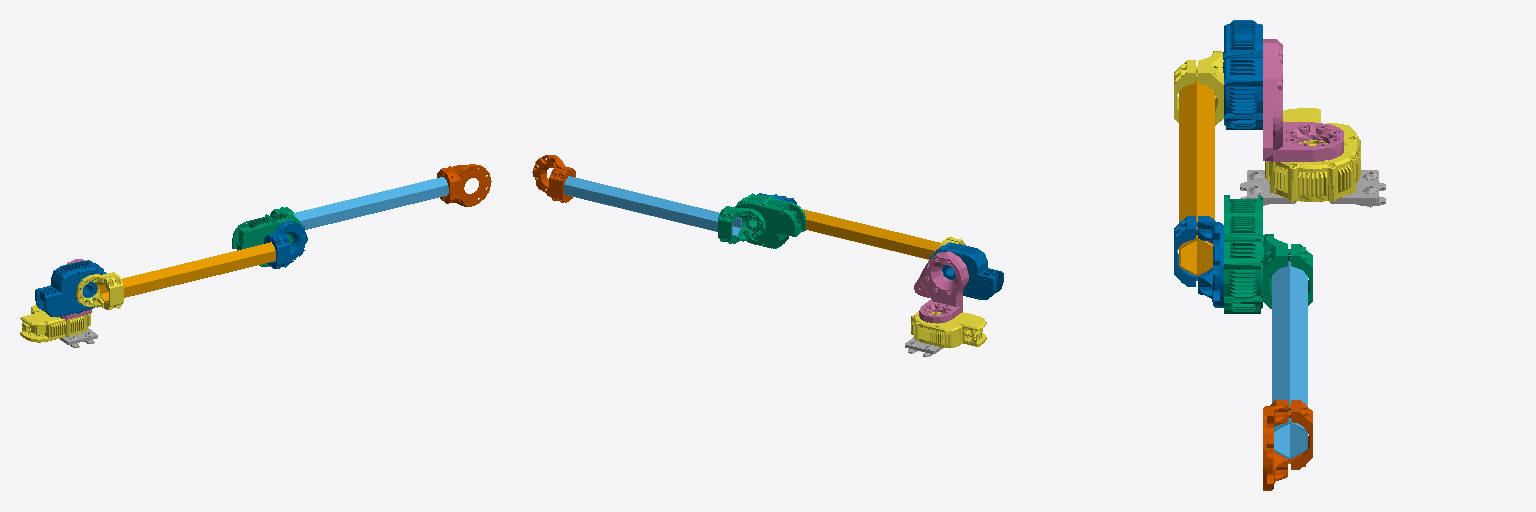
The robot description file, URDF, robot "HEBI_3_DOF_Arm_1":
<?xml version="1.0" ?>
<robot name="HEBI_3_DOF_Arm_1">
  <!--Joints-->
  <joint name="world_to_base_link" type="fixed">
    <parent link="world"/>
    <child link="base_link"/>
  </joint>
  <joint name="base_link_to_a_2043_01_5Z" type="fixed">
    <parent link="base_link"/>
    <child link="a_2043_01_5Z"/>
  </joint>
  <joint name="a_2043_01_5Z_to_hebi_x5_4_3Z" type="fixed">
    <parent link="a_2043_01_5Z"/>
    <child link="hebi_x5_4_3Z"/>
    <origin rpy="0.0 -5.08239990574e-17 -1.73333696049e-33" xyz="8.71763536758e-24 1.61232339957e-23 1e-23"/>
  </joint>
  <joint name="HEBI/Base/X5_4" type="revolute">
    <parent link="hebi_x5_4_3Z"/>
    <child link="a_2040_01r_1Z"/>
    <axis xyz="-2.77554010017e-17 -1.73472348e-16 1.0"/>
    <dynamics damping="0.5" friction="0.06"/>
    <limit effort="100" lower="-3.14" upper="+3.14" velocity="100"/>
    <origin rpy="0.0 3.34767643574e-17 7.733222874e-33" xyz="-5.55318730444e-17 -2.96636102637e-18 0.03"/>
  </joint>
  <gazebo reference="HEBI/Base/X5_4">
    <implicitSpringDamper>True</implicitSpringDamper>
  </gazebo>
  <joint name="a_2040_01r_1Z_to_hebi_x5_9_7Z" type="fixed">
    <parent link="a_2040_01r_1Z"/>
    <child link="hebi_x5_9_7Z"/>
    <origin rpy="1.57079632679 3.08148791102e-33 -5.08239990574e-17" xyz="4.80186749853e-17 -0.0375 0.055"/>
  </joint>
  <joint name="HEBI/Shoulder/X5_9" type="revolute">
    <parent link="hebi_x5_9_7Z"/>
    <child link="a_2038_02_8Z"/>
    <axis xyz="-2.77554010017e-17 -1.66533454e-16 1.0"/>
    <dynamics damping="0.5" friction="0.06"/>
    <limit effort="100" lower="-0.2" upper="+3.14" velocity="100"/>
    <origin rpy="0.0 -2.77555756e-17 0.0" xyz="-5.35847694878e-17 2.34257058104e-17 0.03"/>
  </joint>
  <gazebo reference="HEBI/Shoulder/X5_9">
    <implicitSpringDamper>True</implicitSpringDamper>
  </gazebo>
  <joint name="a_2038_02_8Z_to_tubepar_9Z" type="fixed">
    <parent link="a_2038_02_8Z"/>
    <child link="tubepar_9Z"/>
    <origin rpy="1.57079632679 -1.57079632679 0.0" xyz="0.0135 -9.540978845e-20 0.02"/>
  </joint>
  <joint name="tubepar_9Z_to_a_2039_02_10Z" type="fixed">
    <parent link="tubepar_9Z"/>
    <child link="a_2039_02_10Z"/>
    <origin rpy="1.57079632679 2.50240867501e-14 -1.57079632679" xyz="4.84783703319e-18 -0.3 5.20417041e-18"/>
  </joint>
  <joint name="a_2039_02_10Z_to_hebi_x5_4_6Z" type="fixed">
    <parent link="a_2039_02_10Z"/>
    <child link="hebi_x5_4_6Z"/>
    <origin rpy="1.22464679915e-16 1.04083409e-17 2.50240867501e-14" xyz="0.014 3.34058705353e-16 0.02"/>
  </joint>
  <joint name="HEBI/Elbow/X5_4" type="revolute">
    <parent link="hebi_x5_4_6Z"/>
    <child link="a_2038_02_2Z"/>
    <axis xyz="-8.89879155574e-17 -1.5959456e-16 1.0"/>
    <dynamics damping="0.5" friction="0.06"/>
    <limit effort="100" lower="-2.8" upper="+2.8" velocity="100"/>
    <origin rpy="0.0 -2.77555756e-17 -3.08148791102e-33" xyz="-5.95130563275e-17 -4.7878368e-18 0.03"/>
  </joint>
  <gazebo reference="HEBI/Elbow/X5_4">
    <implicitSpringDamper>True</implicitSpringDamper>
  </gazebo>
  <joint name="a_2038_02_2Z_to_tubepar_11Z" type="fixed">
    <parent link="a_2038_02_2Z"/>
    <child link="tubepar_11Z"/>
    <origin rpy="1.57079632679 -1.57079632679 0.0" xyz="0.0135 5.1174342845e-19 0.02"/>
  </joint>
  <joint name="tubepar_11Z_to_a_2039_02_4Z" type="fixed">
    <parent link="tubepar_11Z"/>
    <child link="a_2039_02_4Z"/>
    <origin rpy="1.57079632679 2.50240867501e-14 -1.57079632679" xyz="-2.94658008559e-18 -0.3 9.0066843052e-18"/>
  </joint>
  <!--Gazebo Plugins-->
  <gazebo>
    <plugin filename="libhebiros_gazebo_plugin.so" name="hebiros_gazebo_plugin"/>
  </gazebo>
  <!--Links-->
  <link name="world"/>
  <link name="base_link">
    <!--Transformation from CyPhy2CAD global reference frame to base_link-->
    <CyPhy2CAD>
      <CADAssembly_metrics>
        <RotationMatrix>
          <Row>
            <Column Value="1.0"/>
            <Column Value="0.0"/>
            <Column Value="0.0"/>
          </Row>
          <Row>
            <Column Value="0.0"/>
            <Column Value="1.0"/>
            <Column Value="0.0"/>
          </Row>
          <Row>
            <Column Value="0.0"/>
            <Column Value="0.0"/>
            <Column Value="1.0"/>
          </Row>
        </RotationMatrix>
        <Translation X="1e-20" Y="1e-20" Z="1e-20"/>
      </CADAssembly_metrics>
    </CyPhy2CAD>
  </link>
  <link name="a_2038_02_2Z">
    <visual>
      <origin rpy="0 0 0" xyz="5.68434188608e-17 9.86076128129e-34 3.48065554802e-33"/>
      <geometry>
        <mesh filename="package://openmeta_generated_urdf_package/meshes/a_2038_02_2z_prt.stl" scale="0.001 0.001 0.001"/>
      </geometry>
    </visual>
    <collision>
      <origin rpy="0 0 0" xyz="5.68434188608e-17 9.86076128129e-34 3.48065554802e-33"/>
      <geometry>
        <mesh filename="package://openmeta_generated_urdf_package/meshes/a_2038_02_2z_prt.stl" scale="0.001 0.001 0.001"/>
      </geometry>
    </collision>
    <inertial>
      <origin rpy="0 0 0" xyz="0.0176052907699 9.86076128129e-34 0.0142788404199"/>
      <mass value="0.059108249978877175"/>
      <inertia ixx="2.3632587043e-05" ixy="0.0" ixz="-3.93131579939e-06" iyy="2.03298829586e-05" iyz="0.0" izz="2.72912531732e-05"/>
    </inertial>
  </link>
  <gazebo reference="a_2038_02_2Z">
    <selfCollide>True</selfCollide>
    <material>Gazebo/Black</material>
    <mu1>0.1</mu1>
    <mu2>0.1</mu2>
    <kp>100000</kp>
    <kd>1</kd>
    <minDepth>0.001</minDepth>
    <maxVel>100</maxVel>
  </gazebo>
  <link name="a_2038_02_8Z">
    <visual>
      <origin rpy="0 0 0" xyz="5.68994337913e-17 -9.87047832275e-34 -4.47113330557e-33"/>
      <geometry>
        <mesh filename="package://openmeta_generated_urdf_package/meshes/a_2038_02_8z_prt.stl" scale="0.001 0.001 0.001"/>
      </geometry>
    </visual>
    <collision>
      <origin rpy="0 0 0" xyz="5.68994337913e-17 -9.87047832275e-34 -4.47113330557e-33"/>
      <geometry>
        <mesh filename="package://openmeta_generated_urdf_package/meshes/a_2038_02_8z_prt.stl" scale="0.001 0.001 0.001"/>
      </geometry>
    </collision>
    <inertial>
      <origin rpy="0 0 0" xyz="0.0176052907699 -9.87047832275e-34 0.0142788404199"/>
      <mass value="0.059108249978877175"/>
      <inertia ixx="2.3632587043e-05" ixy="0.0" ixz="-3.93131579939e-06" iyy="2.03298829586e-05" iyz="0.0" izz="2.72912531732e-05"/>
    </inertial>
  </link>
  <gazebo reference="a_2038_02_8Z">
    <selfCollide>True</selfCollide>
    <material>Gazebo/Black</material>
    <mu1>0.1</mu1>
    <mu2>0.1</mu2>
    <kp>100000</kp>
    <kd>1</kd>
    <minDepth>0.001</minDepth>
    <maxVel>100</maxVel>
  </gazebo>
  <link name="a_2039_02_10Z">
    <visual>
      <origin rpy="0 0 0" xyz="0.014 3.48269560069e-16 0.02"/>
      <geometry>
        <mesh filename="package://openmeta_generated_urdf_package/meshes/a_2039_02_10z_prt.stl" scale="0.001 0.001 0.001"/>
      </geometry>
    </visual>
    <collision>
      <origin rpy="0 0 0" xyz="0.014 3.48269560069e-16 0.02"/>
      <geometry>
        <mesh filename="package://openmeta_generated_urdf_package/meshes/a_2039_02_10z_prt.stl" scale="0.001 0.001 0.001"/>
      </geometry>
    </collision>
    <inertial>
      <origin rpy="0 0 0" xyz="0.00256411047128 3.48269560069e-16 0.00833404763152"/>
      <mass value="0.08075605008850124"/>
      <inertia ixx="3.54766366127e-05" ixy="0.0" ixz="-8.29679742245e-06" iyy="3.7139980371e-05" iyz="0.0" izz="5.23238184568e-05"/>
    </inertial>
  </link>
  <gazebo reference="a_2039_02_10Z">
    <selfCollide>True</selfCollide>
    <material>Gazebo/Black</material>
    <mu1>0.1</mu1>
    <mu2>0.1</mu2>
    <kp>100000</kp>
    <kd>1</kd>
    <minDepth>0.001</minDepth>
    <maxVel>100</maxVel>
  </gazebo>
  <link name="a_2039_02_4Z">
    <visual>
      <origin rpy="0 0 0" xyz="0.014 3.47783837497e-16 0.02"/>
      <geometry>
        <mesh filename="package://openmeta_generated_urdf_package/meshes/a_2039_02_4z_prt.stl" scale="0.001 0.001 0.001"/>
      </geometry>
    </visual>
    <collision>
      <origin rpy="0 0 0" xyz="0.014 3.47783837497e-16 0.02"/>
      <geometry>
        <mesh filename="package://openmeta_generated_urdf_package/meshes/a_2039_02_4z_prt.stl" scale="0.001 0.001 0.001"/>
      </geometry>
    </collision>
    <inertial>
      <origin rpy="0 0 0" xyz="0.00256411047128 3.47783837497e-16 0.00833404763152"/>
      <mass value="0.08075605008850124"/>
      <inertia ixx="3.54766366127e-05" ixy="0.0" ixz="-8.29679742245e-06" iyy="3.7139980371e-05" iyz="0.0" izz="5.23238184568e-05"/>
    </inertial>
  </link>
  <gazebo reference="a_2039_02_4Z">
    <selfCollide>True</selfCollide>
    <material>Gazebo/Black</material>
    <mu1>0.1</mu1>
    <mu2>0.1</mu2>
    <kp>100000</kp>
    <kd>1</kd>
    <minDepth>0.001</minDepth>
    <maxVel>100</maxVel>
  </gazebo>
  <link name="a_2040_01r_1Z">
    <visual>
      <origin rpy="0 0 0" xyz="-0.00144337567 -0.0366111248 -0.0110127649"/>
      <geometry>
        <mesh filename="package://openmeta_generated_urdf_package/meshes/a_2040_01r_1z_prt.stl" scale="0.001 0.001 0.001"/>
      </geometry>
    </visual>
    <collision>
      <origin rpy="0 0 0" xyz="-0.00144337567 -0.0366111248 -0.0110127649"/>
      <geometry>
        <mesh filename="package://openmeta_generated_urdf_package/meshes/a_2040_01r_1z_prt.stl" scale="0.001 0.001 0.001"/>
      </geometry>
    </collision>
    <inertial>
      <origin rpy="0 0 0" xyz="0.00491688893766 -0.0251584176519 0.0321388430548"/>
      <mass value="0.20914931631287276"/>
      <inertia ixx="0.000172164331359" ixy="6.97960030475e-06" ixz="1.86510590224e-06" iyy="0.000214507296155" iyz="3.45432088412e-05" izz="0.00012102414398"/>
    </inertial>
  </link>
  <gazebo reference="a_2040_01r_1Z">
    <selfCollide>True</selfCollide>
    <material>Gazebo/Black</material>
    <mu1>0.1</mu1>
    <mu2>0.1</mu2>
    <kp>100000</kp>
    <kd>1</kd>
    <minDepth>0.001</minDepth>
    <maxVel>100</maxVel>
  </gazebo>
  <link name="a_2043_01_5Z">
    <visual>
      <origin rpy="0 0 0" xyz="1e-23 1e-23 1e-23"/>
      <geometry>
        <mesh filename="package://openmeta_generated_urdf_package/meshes/a_2043_01_5z_prt.stl" scale="0.001 0.001 0.001"/>
      </geometry>
    </visual>
    <collision>
      <origin rpy="0 0 0" xyz="1e-23 1e-23 1e-23"/>
      <geometry>
        <mesh filename="package://openmeta_generated_urdf_package/meshes/a_2043_01_5z_prt.stl" scale="0.001 0.001 0.001"/>
      </geometry>
    </collision>
    <inertial>
      <origin rpy="0 0 0" xyz="-0.00139419949295 1e-23 -0.00293190489101"/>
      <mass value="0.06272938391183215"/>
      <inertia ixx="7.22571415296e-05" ixy="2.96268938113e-10" ixz="5.68510520871e-08" iyy="1.34631068457e-05" iyz="0.0" izz="8.48613385518e-05"/>
    </inertial>
  </link>
  <gazebo reference="a_2043_01_5Z">
    <selfCollide>True</selfCollide>
    <material>Gazebo/Black</material>
    <mu1>0.1</mu1>
    <mu2>0.1</mu2>
    <kp>100000</kp>
    <kd>1</kd>
    <minDepth>0.001</minDepth>
    <maxVel>100</maxVel>
  </gazebo>
  <link name="tubepar_9Z">
    <visual>
      <origin rpy="0 0 0" xyz="4.84783703319e-18 -0.3 5.20417041e-18"/>
      <geometry>
        <mesh filename="package://openmeta_generated_urdf_package/meshes/tubepar_9z_prt.stl" scale="0.001 0.001 0.001"/>
      </geometry>
    </visual>
    <collision>
      <origin rpy="0 0 0" xyz="4.84783703319e-18 -0.3 5.20417041e-18"/>
      <geometry>
        <mesh filename="package://openmeta_generated_urdf_package/meshes/tubepar_9z_prt.stl" scale="0.001 0.001 0.001"/>
      </geometry>
    </collision>
    <inertial>
      <origin rpy="0 0 0" xyz="4.84783703319e-18 -0.15 5.20417041e-18"/>
      <mass value="0.12133427279164029"/>
      <inertia ixx="0.000923727684155" ixy="0.0" ixz="0.0" iyy="2.74413054377e-05" iyz="0.0" izz="0.000923727713157"/>
    </inertial>
  </link>
  <gazebo reference="tubepar_9Z">
    <selfCollide>True</selfCollide>
    <material>Gazebo/Grey</material>
    <mu1>0.05</mu1>
    <mu2>0.05</mu2>
    <kp>100000</kp>
    <kd>1</kd>
    <minDepth>0.001</minDepth>
    <maxVel>100</maxVel>
  </gazebo>
  <link name="tubepar_11Z">
    <visual>
      <origin rpy="0 0 0" xyz="-2.94658008559e-18 -0.3 9.0066843052e-18"/>
      <geometry>
        <mesh filename="package://openmeta_generated_urdf_package/meshes/tubepar_11z_prt.stl" scale="0.001 0.001 0.001"/>
      </geometry>
    </visual>
    <collision>
      <origin rpy="0 0 0" xyz="-2.94658008559e-18 -0.3 9.0066843052e-18"/>
      <geometry>
        <mesh filename="package://openmeta_generated_urdf_package/meshes/tubepar_11z_prt.stl" scale="0.001 0.001 0.001"/>
      </geometry>
    </collision>
    <inertial>
      <origin rpy="0 0 0" xyz="-2.94658008559e-18 -0.15 9.0066843052e-18"/>
      <mass value="0.12133427279164029"/>
      <inertia ixx="0.000923727684155" ixy="0.0" ixz="0.0" iyy="2.74413054377e-05" iyz="0.0" izz="0.000923727713157"/>
    </inertial>
  </link>
  <gazebo reference="tubepar_11Z">
    <selfCollide>True</selfCollide>
    <material>Gazebo/Grey</material>
    <mu1>0.05</mu1>
    <mu2>0.05</mu2>
    <kp>100000</kp>
    <kd>1</kd>
    <minDepth>0.001</minDepth>
    <maxVel>100</maxVel>
  </gazebo>
  <link name="hebi_x5_4_6Z">
    <visual>
      <origin rpy="0 0 0" xyz="-5.81782375942e-17 -2.3939184e-18 0.015"/>
      <geometry>
        <mesh filename="package://openmeta_generated_urdf_package/meshes/hebi_x5_4_6z_prt.stl" scale="0.001 0.001 0.001"/>
      </geometry>
    </visual>
    <collision>
      <origin rpy="0 0 0" xyz="-5.81782375942e-17 -2.3939184e-18 0.015"/>
      <geometry>
        <mesh filename="package://openmeta_generated_urdf_package/meshes/hebi_x5_4_6z_prt.stl" scale="0.001 0.001 0.001"/>
      </geometry>
    </collision>
    <inertial>
      <origin rpy="0 0 0" xyz="-0.0142019322139 -0.00151173442654 0.0150064707722"/>
      <mass value="0.33507040082811385"/>
      <inertia ixx="0.000139243898497" ixy="-1.88809652748e-05" ixz="1.26840661154e-08" iyy="0.000241540500785" iyz="1.28229789324e-07" izz="0.000330481488128"/>
    </inertial>
  </link>
  <gazebo reference="hebi_x5_4_6Z">
    <selfCollide>True</selfCollide>
    <material>Gazebo/Red</material>
    <mu1>0.1</mu1>
    <mu2>0.1</mu2>
    <kp>100000</kp>
    <kd>1</kd>
    <minDepth>0.001</minDepth>
    <maxVel>100</maxVel>
    <sensor name="HEBI/Elbow/imu_sensor" type="imu">
      <always_on>true</always_on>
      <update_rate>100</update_rate>
      <visualize>true</visualize>
      <plugin filename="libgazebo_ros_imu_sensor.so" name="imu_plugin">
        <topicName>/hebiros_gazebo_plugin/imu/HEBI/Elbow</topicName>
        <bodyName>HEBI/Elbow/imu_link</bodyName>
        <updateRateHZ>10.0</updateRateHZ>
        <gaussianNoise>0.0</gaussianNoise>
        <xyzOffset>0.025 0 0.003</xyzOffset>
        <rpyOffset>0 0 0</rpyOffset>
        <frameName>HEBI/Elbow/imu_link</frameName>
      </plugin>
      <pose>0 0 0 0 0 0</pose>
    </sensor>
  </gazebo>
  <link name="hebi_x5_4_3Z">
    <visual>
      <origin rpy="0 0 0" xyz="-5.55318730444e-17 -2.49799181e-18 0.015"/>
      <geometry>
        <mesh filename="package://openmeta_generated_urdf_package/meshes/hebi_x5_4_3z_prt.stl" scale="0.001 0.001 0.001"/>
      </geometry>
    </visual>
    <collision>
      <origin rpy="0 0 0" xyz="-5.55318730444e-17 -2.49799181e-18 0.015"/>
      <geometry>
        <mesh filename="package://openmeta_generated_urdf_package/meshes/hebi_x5_4_3z_prt.stl" scale="0.001 0.001 0.001"/>
      </geometry>
    </collision>
    <inertial>
      <origin rpy="0 0 0" xyz="-0.0142019322139 -0.00151173442654 0.0150064707722"/>
      <mass value="0.33507040082811385"/>
      <inertia ixx="0.000139243898497" ixy="-1.88809652748e-05" ixz="1.26840661154e-08" iyy="0.000241540500785" iyz="1.28229789324e-07" izz="0.000330481488128"/>
    </inertial>
  </link>
  <gazebo reference="hebi_x5_4_3Z">
    <selfCollide>True</selfCollide>
    <material>Gazebo/Red</material>
    <mu1>0.1</mu1>
    <mu2>0.1</mu2>
    <kp>100000</kp>
    <kd>1</kd>
    <minDepth>0.001</minDepth>
    <maxVel>100</maxVel>
    <sensor name="HEBI/Base/imu_sensor" type="imu">
      <always_on>true</always_on>
      <update_rate>100</update_rate>
      <visualize>true</visualize>
      <plugin filename="libgazebo_ros_imu_sensor.so" name="imu_plugin">
        <topicName>/hebiros_gazebo_plugin/imu/HEBI/Base</topicName>
        <bodyName>HEBI/Base/imu_link</bodyName>
        <updateRateHZ>10.0</updateRateHZ>
        <gaussianNoise>0.0</gaussianNoise>
        <xyzOffset>0.025 0 0.003</xyzOffset>
        <rpyOffset>0 0 0</rpyOffset>
        <frameName>HEBI/Base/imu_link</frameName>
      </plugin>
      <pose>0 0 0 0 0 0</pose>
    </sensor>
  </gazebo>
  <link name="hebi_x5_9_7Z">
    <visual>
      <origin rpy="0 0 0" xyz="-5.35847694878e-17 2.59237076204e-17 0.015"/>
      <geometry>
        <mesh filename="package://openmeta_generated_urdf_package/meshes/hebi_x5_9_7z_prt.stl" scale="0.001 0.001 0.001"/>
      </geometry>
    </visual>
    <collision>
      <origin rpy="0 0 0" xyz="-5.35847694878e-17 2.59237076204e-17 0.015"/>
      <geometry>
        <mesh filename="package://openmeta_generated_urdf_package/meshes/hebi_x5_9_7z_prt.stl" scale="0.001 0.001 0.001"/>
      </geometry>
    </collision>
    <inertial>
      <origin rpy="0 0 0" xyz="-0.0142019322139 -0.00151173442654 0.0150064707722"/>
      <mass value="0.3601223934133934"/>
      <inertia ixx="0.000149654657264" ixy="-2.029262623e-05" ixz="1.36324075072e-08" iyy="0.000259599603648" iyz="1.37817063293e-07" izz="0.000355190384437"/>
    </inertial>
  </link>
  <gazebo reference="hebi_x5_9_7Z">
    <selfCollide>True</selfCollide>
    <material>Gazebo/Red</material>
    <mu1>0.1</mu1>
    <mu2>0.1</mu2>
    <kp>100000</kp>
    <kd>1</kd>
    <minDepth>0.001</minDepth>
    <maxVel>100</maxVel>
    <sensor name="HEBI/Shoulder/imu_sensor" type="imu">
      <always_on>true</always_on>
      <update_rate>100</update_rate>
      <visualize>true</visualize>
      <plugin filename="libgazebo_ros_imu_sensor.so" name="imu_plugin">
        <topicName>/hebiros_gazebo_plugin/imu/HEBI/Shoulder</topicName>
        <bodyName>HEBI/Shoulder/imu_link</bodyName>
        <updateRateHZ>10.0</updateRateHZ>
        <gaussianNoise>0.0</gaussianNoise>
        <xyzOffset>0.025 0 0.003</xyzOffset>
        <rpyOffset>0 0 0</rpyOffset>
        <frameName>HEBI/Shoulder/imu_link</frameName>
      </plugin>
      <pose>0 0 0 0 0 0</pose>
    </sensor>
  </gazebo>
</robot>

--- What the picture shows (computed from the rendered views, not written in the file) ---
3 views of the same robot in one strip: view 1: azimuth 30°, elevation 25°; view 2: azimuth 150°, elevation 25°; view 3: azimuth 270°, elevation 25° (orthographic).
Robot: HEBI_3_DOF_Arm_1 — 13 links, 12 joints (3 revolute, 9 fixed); root link world; default pose: all joints at 0.
Visible links, largest first — view 1: tubepar_9Z, tubepar_11Z, hebi_x5_9_7Z, hebi_x5_4_3Z, a_2039_02_4Z, hebi_x5_4_6Z, a_2039_02_10Z, a_2038_02_8Z; view 2: tubepar_11Z, a_2040_01r_1Z, tubepar_9Z, hebi_x5_4_6Z, hebi_x5_4_3Z, hebi_x5_9_7Z, a_2039_02_4Z, a_2038_02_2Z; view 3: tubepar_11Z, tubepar_9Z, hebi_x5_4_3Z, a_2040_01r_1Z, hebi_x5_4_6Z, hebi_x5_9_7Z, a_2039_02_10Z, a_2039_02_4Z, a_2043_01_5Z, a_2038_02_8Z, a_2038_02_2Z.
Boxes of the visible links, x1,y1,x2,y2 form: tubepar_9Z: [100, 242, 275, 302]; tubepar_11Z: [294, 177, 448, 229]; hebi_x5_9_7Z: [35, 260, 106, 317]; hebi_x5_4_3Z: [20, 305, 90, 342]; a_2039_02_4Z: [437, 164, 491, 206]; hebi_x5_4_6Z: [232, 212, 304, 266]; a_2039_02_10Z: [264, 221, 307, 268]; a_2038_02_8Z: [76, 272, 123, 309]; tubepar_11Z: [564, 176, 741, 236]; a_2040_01r_1Z: [914, 251, 968, 322]; tubepar_9Z: [802, 209, 940, 259]; hebi_x5_4_6Z: [734, 193, 805, 248]; hebi_x5_4_3Z: [911, 311, 986, 347]; hebi_x5_9_7Z: [930, 242, 1003, 299]; a_2039_02_4Z: [532, 155, 575, 202]; a_2038_02_2Z: [718, 206, 765, 243]; tubepar_11Z: [1272, 255, 1307, 459]; tubepar_9Z: [1179, 72, 1214, 275]; hebi_x5_4_3Z: [1265, 108, 1360, 201]; a_2040_01r_1Z: [1263, 39, 1343, 161]; hebi_x5_4_6Z: [1224, 195, 1263, 313]; hebi_x5_9_7Z: [1222, 20, 1262, 129]; a_2039_02_10Z: [1174, 216, 1223, 307]; a_2039_02_4Z: [1263, 400, 1312, 490]; a_2043_01_5Z: [1240, 170, 1385, 207]; a_2038_02_8Z: [1174, 51, 1223, 125]; a_2038_02_2Z: [1263, 234, 1312, 308].
Bounding box of the posed robot: 0.7606 × 0.1603 × 0.1342 m (x, y, z).
11 mesh visuals loaded from 11 distinct referenced files (11 binary STL).